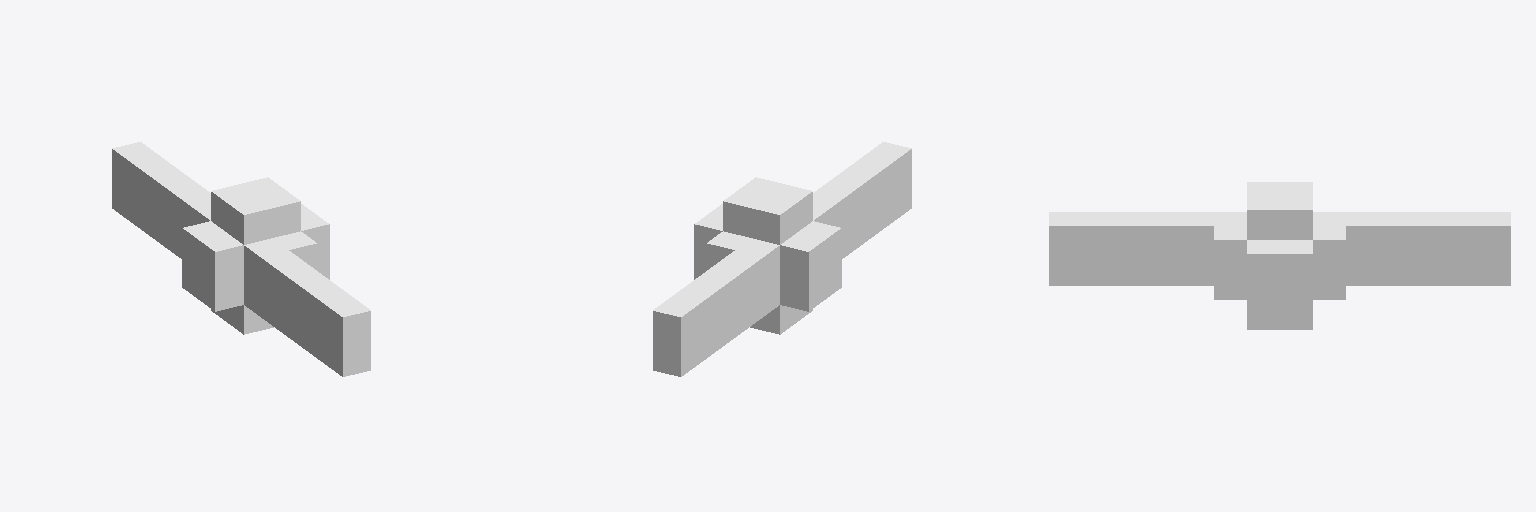
Rendered from AirplanePropeller.obj.
3 renders of one model, left to right at view 1: azimuth 30°, elevation 25°; view 2: azimuth 150°, elevation 25°; view 3: azimuth 270°, elevation 25°, orthographic.
Parts seen in each view (by area): view 1: object 1; view 2: object 1; view 3: object 1.
Part boxes in pixels (x1,y1,x2,y2): object 1: (112, 142, 370, 376); object 1: (653, 142, 911, 376); object 1: (1049, 182, 1510, 329).
Size of the model in its own units: 0.4 by 0.4 by 1.4.